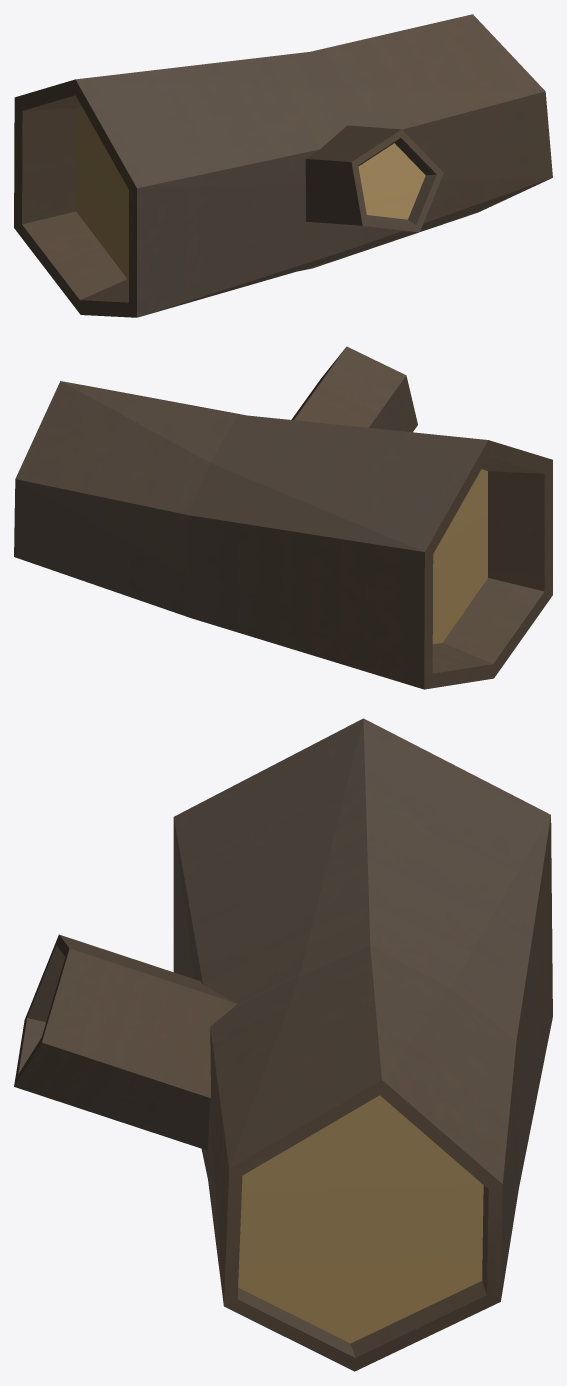
File: SM_Tree_6.FBX
3 views of the same model, one above another, from view 1: azimuth 30°, elevation 25°; view 2: azimuth 150°, elevation 25°; view 3: azimuth 270°, elevation 25° (orthographic). The views are drawn at different scales.
Visible parts, largest first — view 1: SM_Tree_6; view 2: SM_Tree_6; view 3: SM_Tree_6.
Boxes of the visible parts, <box> form: SM_Tree_6: <box>14,14,552,317</box>; SM_Tree_6: <box>14,346,552,689</box>; SM_Tree_6: <box>14,718,552,1371</box>.
Size of what is drawn, in the model's own units: 144 by 101 by 77.3.
